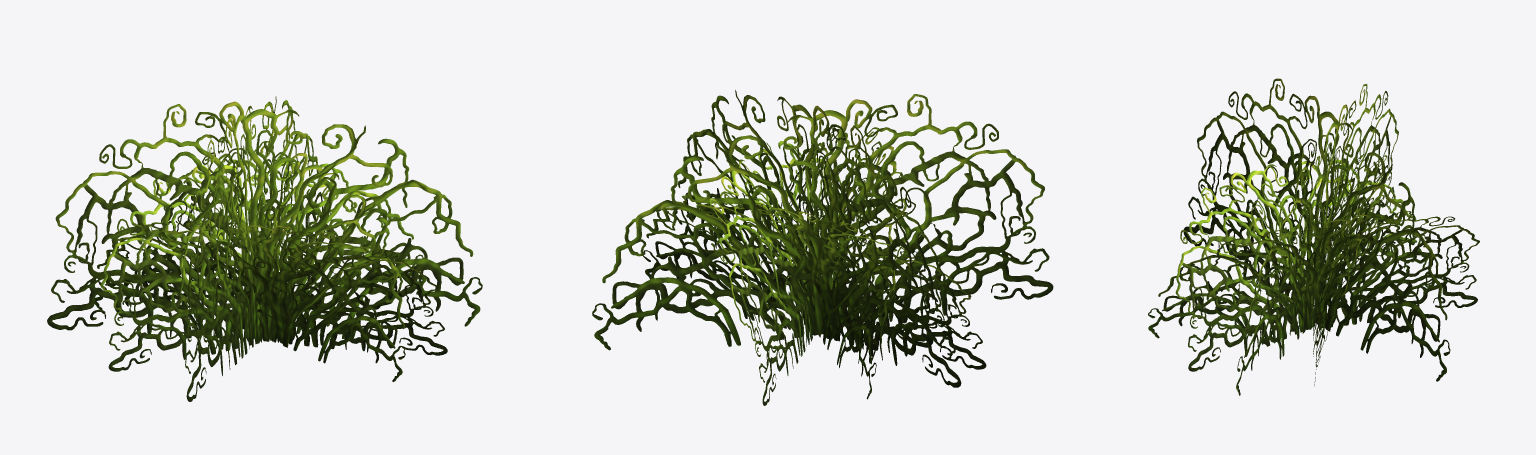
Rendered from PlantSwamp_LOD0.fbx.
3 views of the same model, side by side, from view 1: azimuth 30°, elevation 25°; view 2: azimuth 150°, elevation 25°; view 3: azimuth 270°, elevation 25° (orthographic). The views are drawn at different scales.
Visible parts, largest first — view 1: Mesh; view 2: Mesh; view 3: Mesh.
Part boxes in pixels (bbox=[...]): Mesh: bbox=[47, 96, 482, 401]; Mesh: bbox=[592, 90, 1053, 405]; Mesh: bbox=[1148, 78, 1479, 395].
Size of the model in its own units: 187 by 117 by 169.
